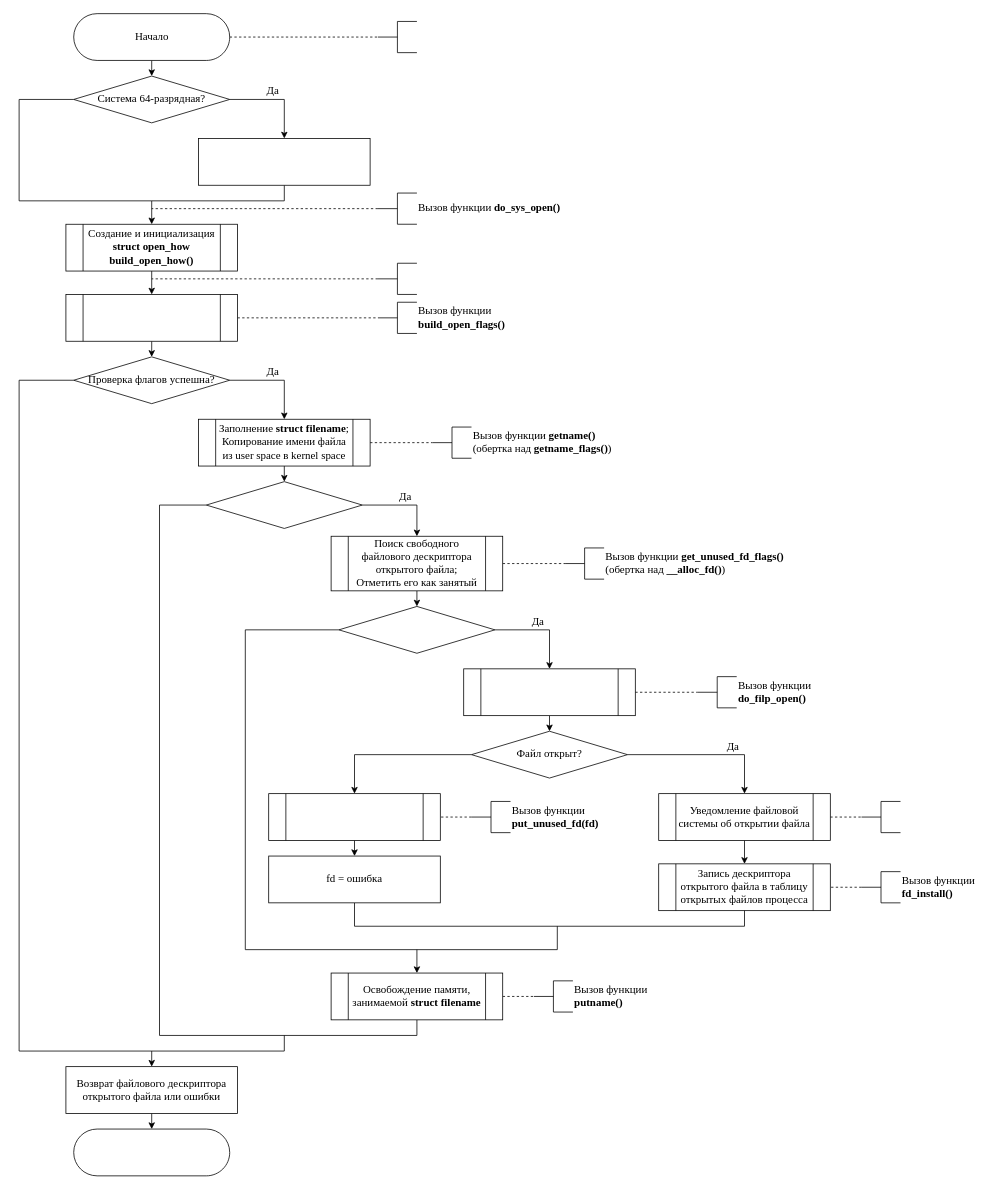
Some shapes in this 989 by 1190 pixel diagram are drawn without their labels. The centre of each missing label's shape, as x and y in pixels:
"int open (const char *path, int flags, mode_t mode)" belongs at (x=397, y=37).
"Вызов функции do_sys_openat2()" belongs at (x=397, y=278).
"Вызов функции fsnotify_open()" belongs at (x=881, y=817).
"Добавление флага O_LARGEFILE" belongs at (x=284, y=161).
"Заполнение struct open_flags ; Проверка флагов" belongs at (x=151, y=317).
"Конец" belongs at (x=151, y=1152).
"Копирование успешно?" belongs at (x=284, y=504).
"Освобождение файлового дескриптора" belongs at (x=354, y=816).
"Открытие файла; Заполнение struct file" belongs at (x=549, y=692).
"Файловый дескриптор получен?" belongs at (x=416, y=629).
